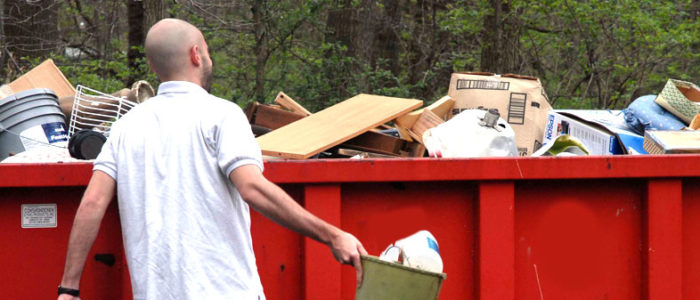Dumpster: (1, 80, 700, 300)
Person: (54, 15, 376, 300)
